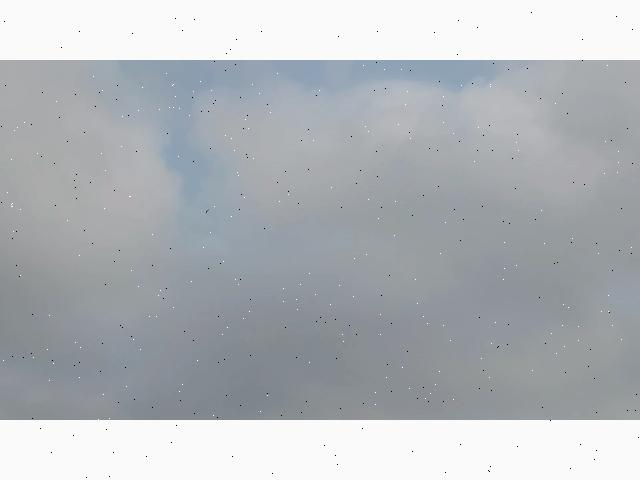Anti-Drone: (205, 209, 209, 215)
